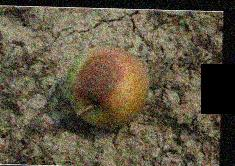rotten apple: (67, 48, 149, 130)
